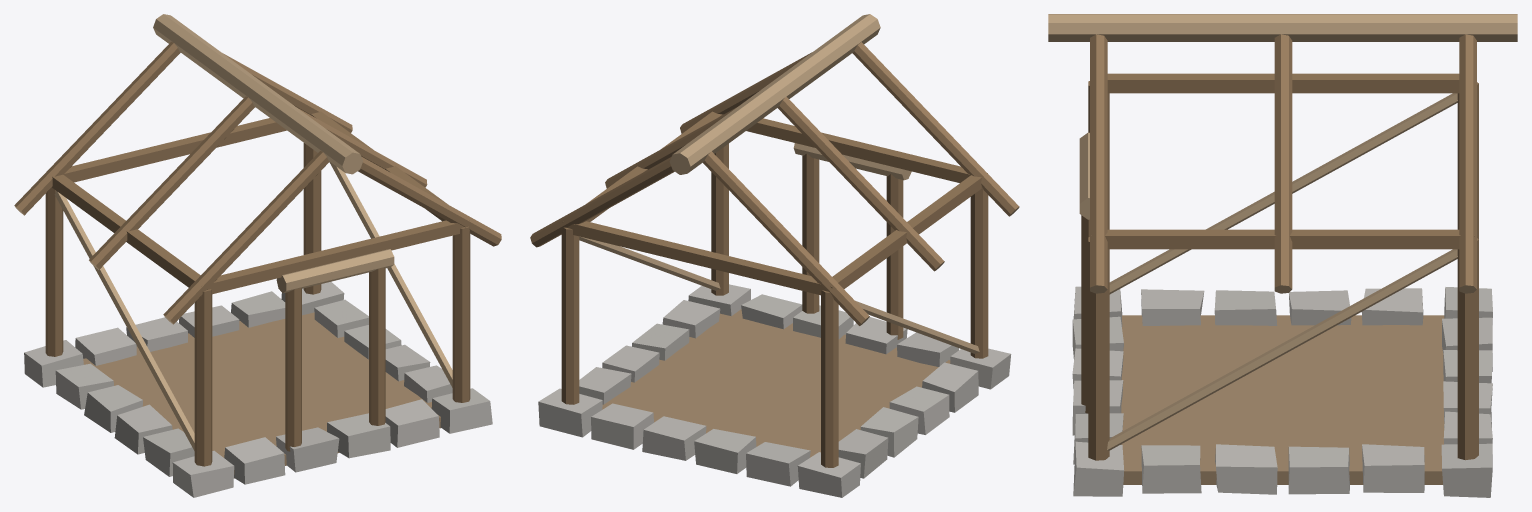
The model's file is building_drying_shed_frame.glb.
The picture shows the model from 3 angles, left to right: view 1: azimuth 30°, elevation 25°; view 2: azimuth 150°, elevation 25°; view 3: azimuth 270°, elevation 25°; orthographic projection. The views are drawn at different scales.
Visible parts, largest first — view 1: building_drying_shed_frame; view 2: building_drying_shed_frame; view 3: building_drying_shed_frame.
Part boxes in pixels (x1,y1,x2,y2): building_drying_shed_frame: (14,14,501,497); building_drying_shed_frame: (530,14,1019,497); building_drying_shed_frame: (1048,14,1517,497).
Size of the model in its own units: 3.85 by 3.47 by 3.76.
